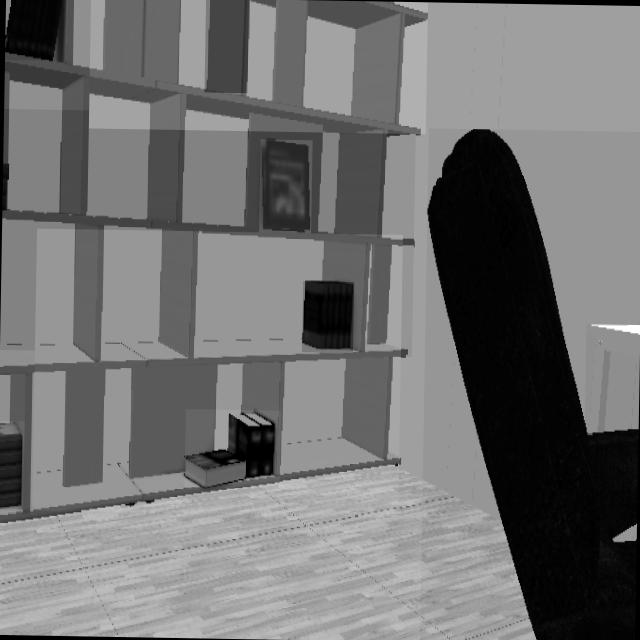book: (184, 410, 279, 487), (260, 140, 311, 236), (302, 281, 354, 351), (5, 0, 63, 60), (0, 421, 23, 512)
bookshelf: (32, 232, 399, 510), (2, 113, 413, 356), (0, 0, 181, 524), (89, 0, 427, 133), (204, 0, 248, 93)
chair: (427, 129, 638, 640)
table: (586, 325, 640, 434)
